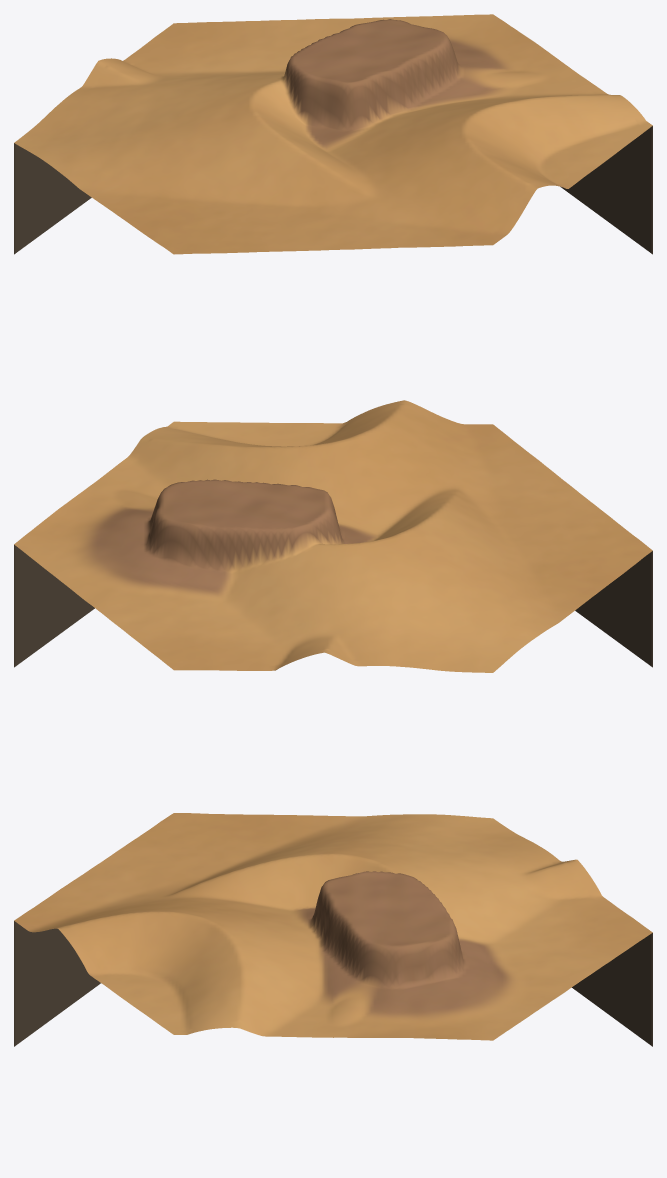
3 views of the same model, one above another, from view 1: azimuth 30°, elevation 25°; view 2: azimuth 150°, elevation 25°; view 3: azimuth 270°, elevation 25° (orthographic).
Parts seen in each view (by area): view 1: terrain, hex_side_cut; view 2: terrain, hex_side_cut; view 3: terrain, hex_side_cut.
Part boxes in pixels (<box>): terrain: <box>14,14,652,254</box>; hex_side_cut: <box>14,126,652,254</box>; terrain: <box>14,400,652,672</box>; hex_side_cut: <box>14,544,652,667</box>; terrain: <box>14,813,652,1040</box>; hex_side_cut: <box>14,921,652,1046</box>.
Bounding box in the file's own units: 4330 × 1478 × 5000.
